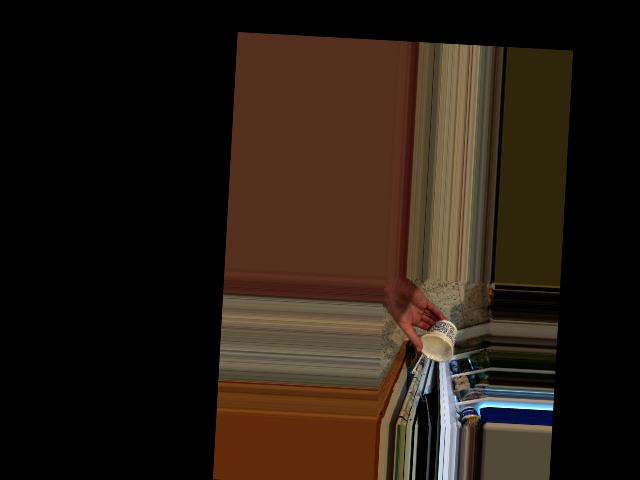cotage: (420, 318, 454, 362)
